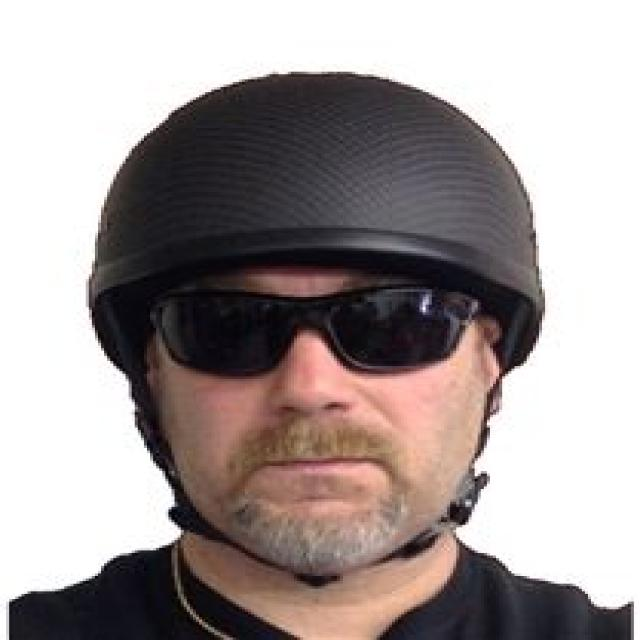Helmet: (83, 64, 549, 579)
